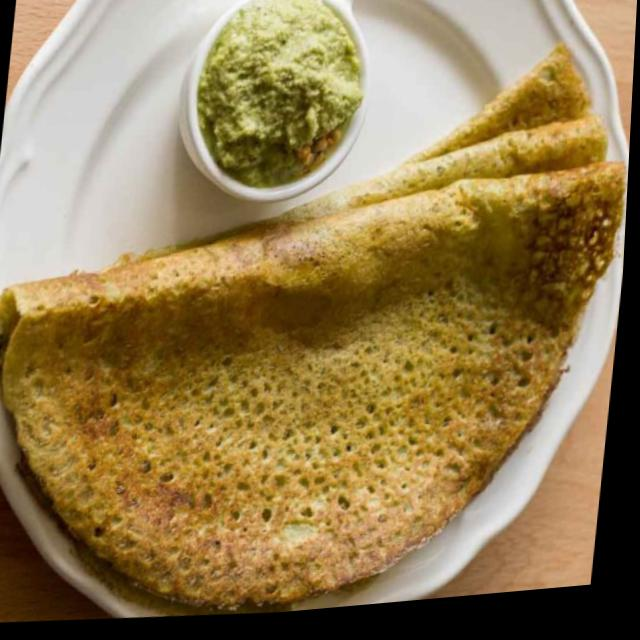DOSA: (0, 40, 628, 615)
GREEN CHUTNEY: (201, 0, 364, 182)
